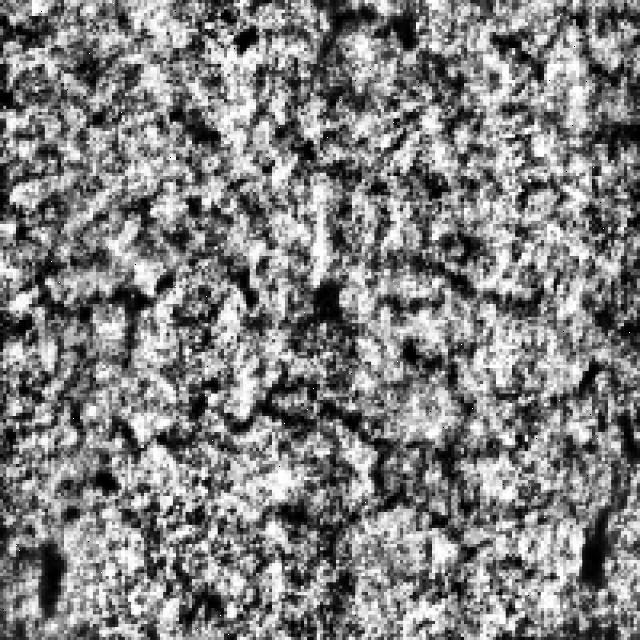Pitted_Surface: (147, 314, 608, 602), (0, 150, 269, 461), (224, 0, 637, 131)
